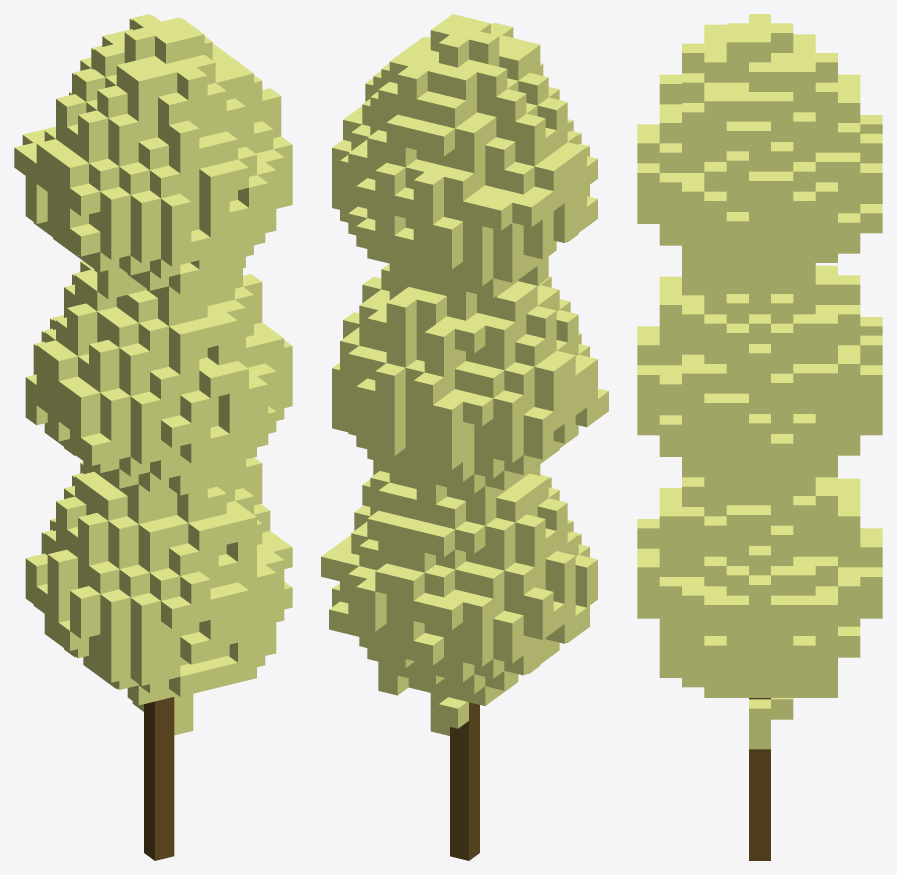
The model's file is tamago6_1.fbx.
3 views of the same model, side by side, from view 1: azimuth 30°, elevation 25°; view 2: azimuth 150°, elevation 25°; view 3: azimuth 270°, elevation 25° (orthographic).
Visible parts, largest first — view 1: ObjObject.001; view 2: ObjObject.001; view 3: ObjObject.001.
Boxes of the visible parts, bbox=[...] form: ObjObject.001: bbox=[14, 14, 292, 860]; ObjObject.001: bbox=[321, 14, 608, 860]; ObjObject.001: bbox=[637, 14, 882, 860].
Bounding box in the file's own units: 110 × 410 × 110.
Materials: 1 (1 with a texture image).
